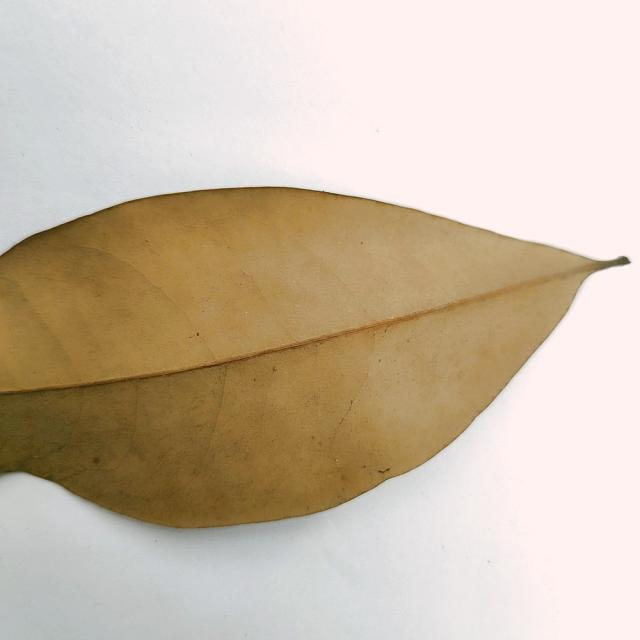Dry_Leaf-Lychee: (0, 188, 630, 532)
